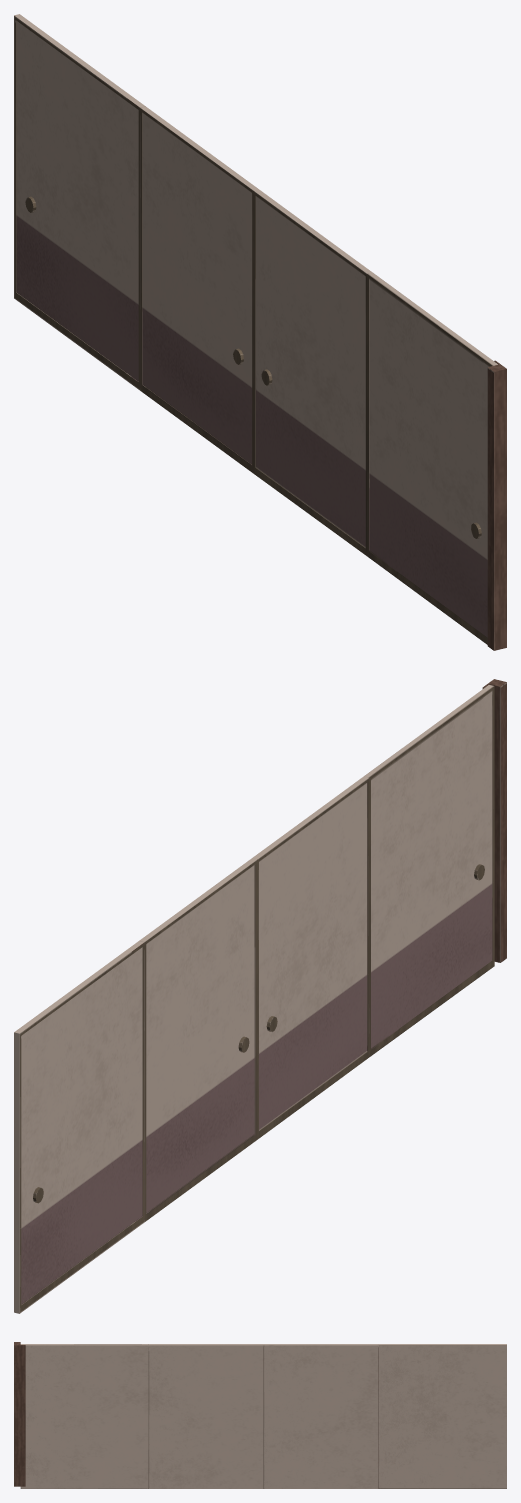
Rendered from right_wall.glb.
3 views of the same model, one above another, from view 1: azimuth 30°, elevation 25°; view 2: azimuth 150°, elevation 25°; view 3: azimuth 270°, elevation 25° (orthographic). The views are drawn at different scales.
Visible parts, largest first — view 1: RightWall; view 2: RightWall; view 3: RightWall.
Boxes of the visible parts, x1,y1,x2,y2 form: RightWall: [14, 14, 506, 650]; RightWall: [14, 679, 506, 1313]; RightWall: [14, 1342, 506, 1488].
Size of the model in its own units: 0.1674 by 3.51 by 10.89.
4 materials, 4 textured.
